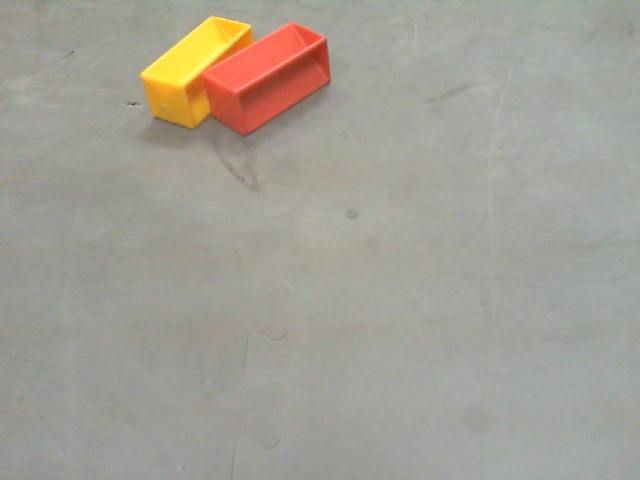RedSample: (201, 19, 331, 137)
YellowSample: (138, 22, 254, 132)
